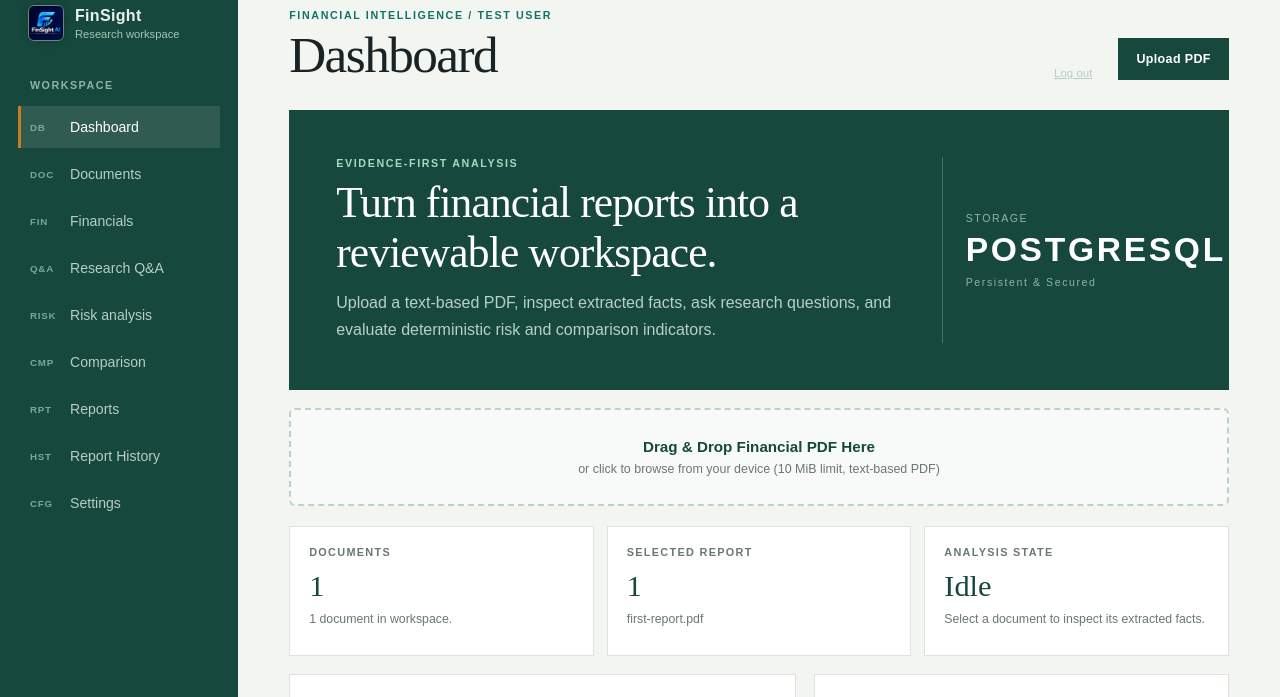
Test: FinSight dashboard › clears document and analysis state before logging out
Click the button "Log out" at (1073, 73), box [1048,66,1098,80]
(page scrolled)
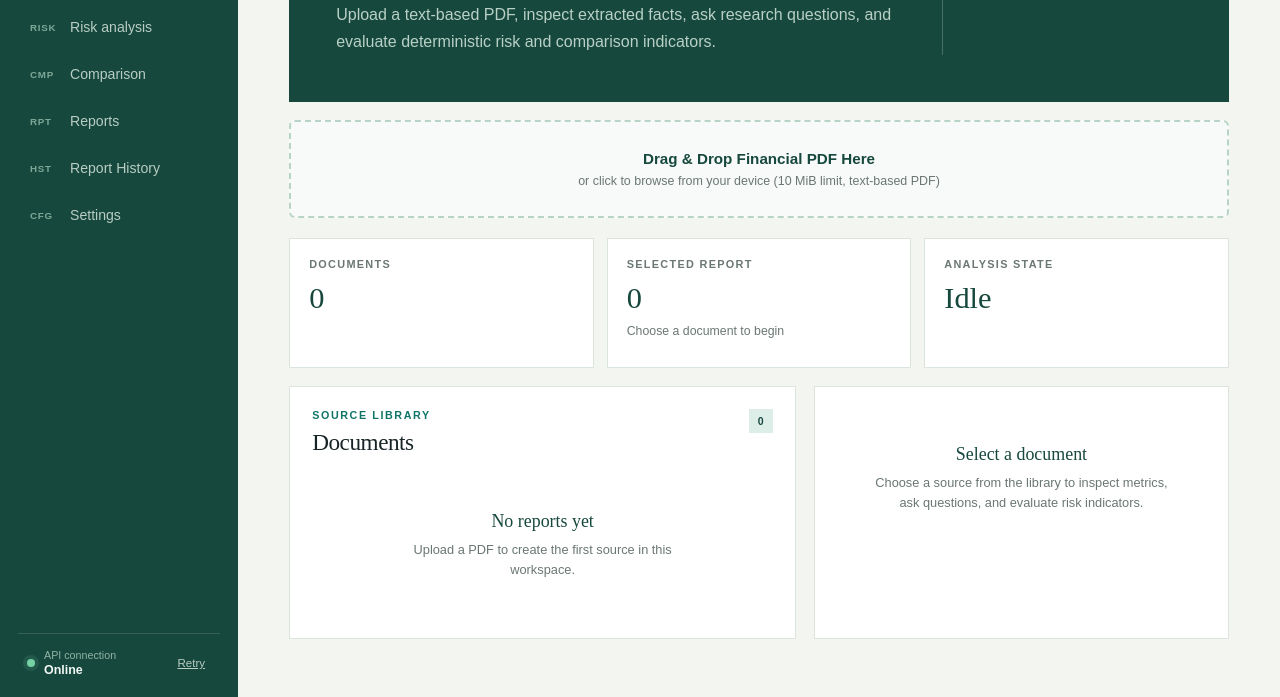
Expected: the text "No reports yet" is shown, [491,511,594,531]
